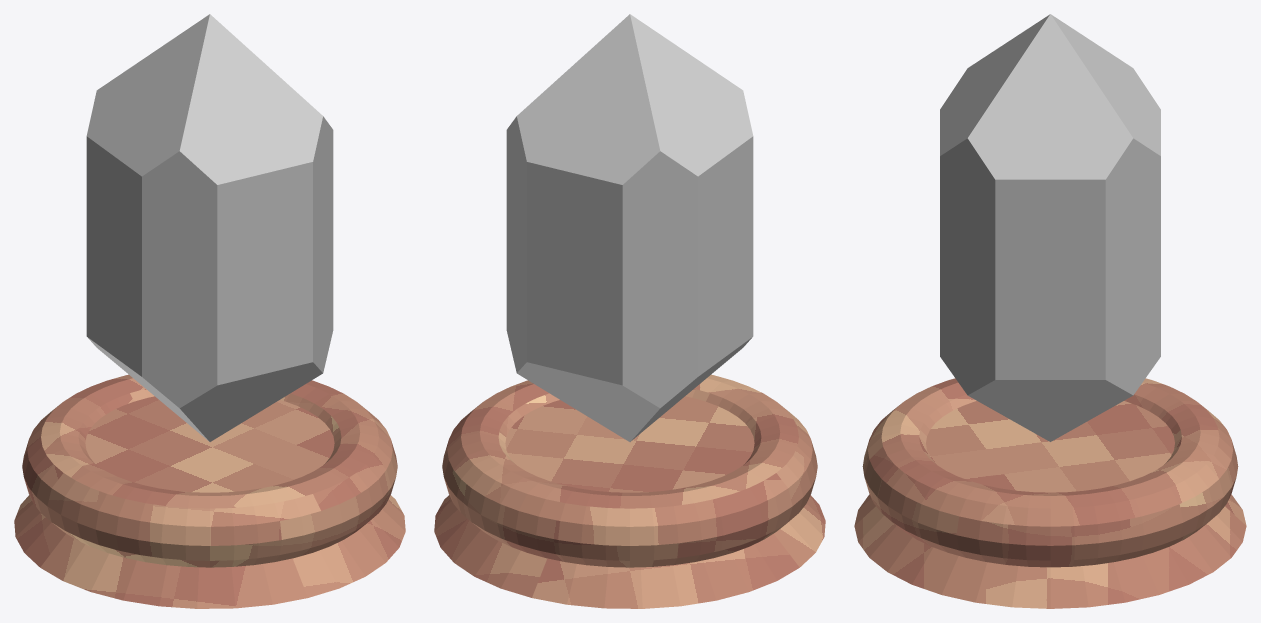
Rendered from image_gem.obj.
3 views of the same model, side by side, from view 1: azimuth 30°, elevation 25°; view 2: azimuth 150°, elevation 25°; view 3: azimuth 270°, elevation 25° (orthographic).
Visible parts, largest first — view 1: Cube_Cube.001, Cylinder; view 2: Cube_Cube.001, Cylinder; view 3: Cube_Cube.001, Cylinder.
Part boxes in pixels (bbox=[...]): Cube_Cube.001: bbox=[86, 14, 333, 441]; Cylinder: bbox=[14, 374, 405, 608]; Cube_Cube.001: bbox=[506, 14, 753, 441]; Cylinder: bbox=[434, 374, 825, 608]; Cube_Cube.001: bbox=[940, 14, 1160, 441]; Cylinder: bbox=[854, 378, 1246, 608].
Bounding box in the file's own units: 1.38 × 1.99 × 1.38.
